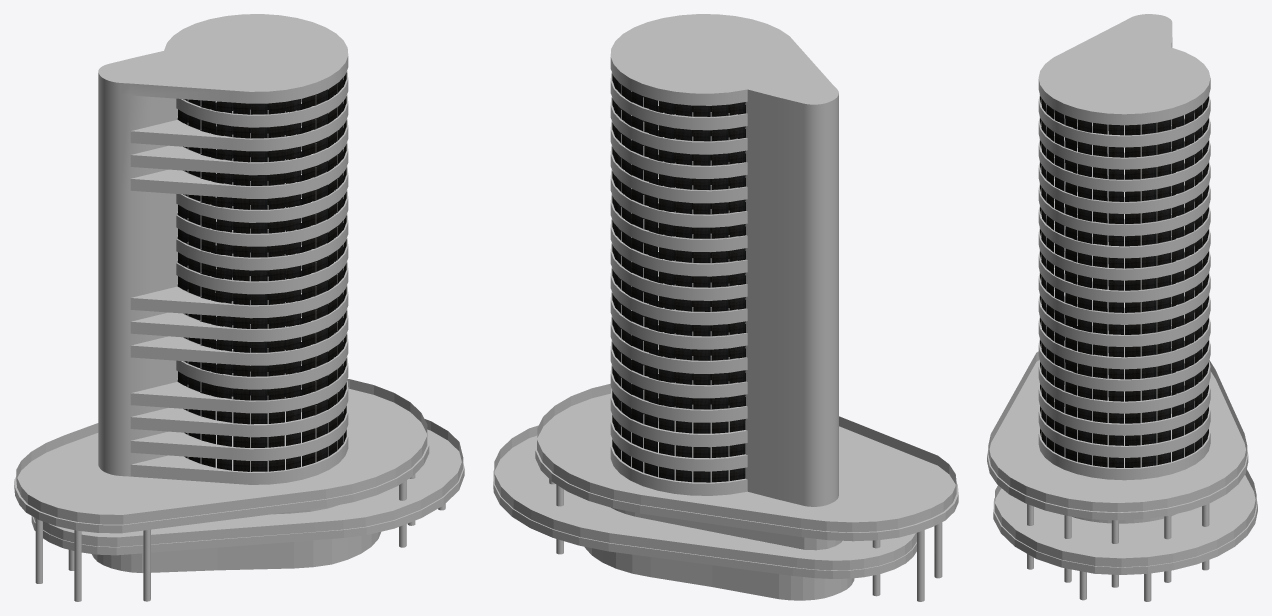
The picture shows the model from 3 angles, left to right: view 1: azimuth 30°, elevation 25°; view 2: azimuth 150°, elevation 25°; view 3: azimuth 270°, elevation 25°; orthographic projection. The views are drawn at different scales.
Parts seen in each view (by area): view 1: BC-P07; view 2: BC-P07; view 3: BC-P07.
Part boxes in pixels (box(x1,y1,x2,y2)): BC-P07: box(14, 14, 464, 601); BC-P07: box(493, 14, 958, 601); BC-P07: box(987, 14, 1257, 601).
Size of what is drawn, in the model's own units: 55.85 by 60.4 by 33.18.
